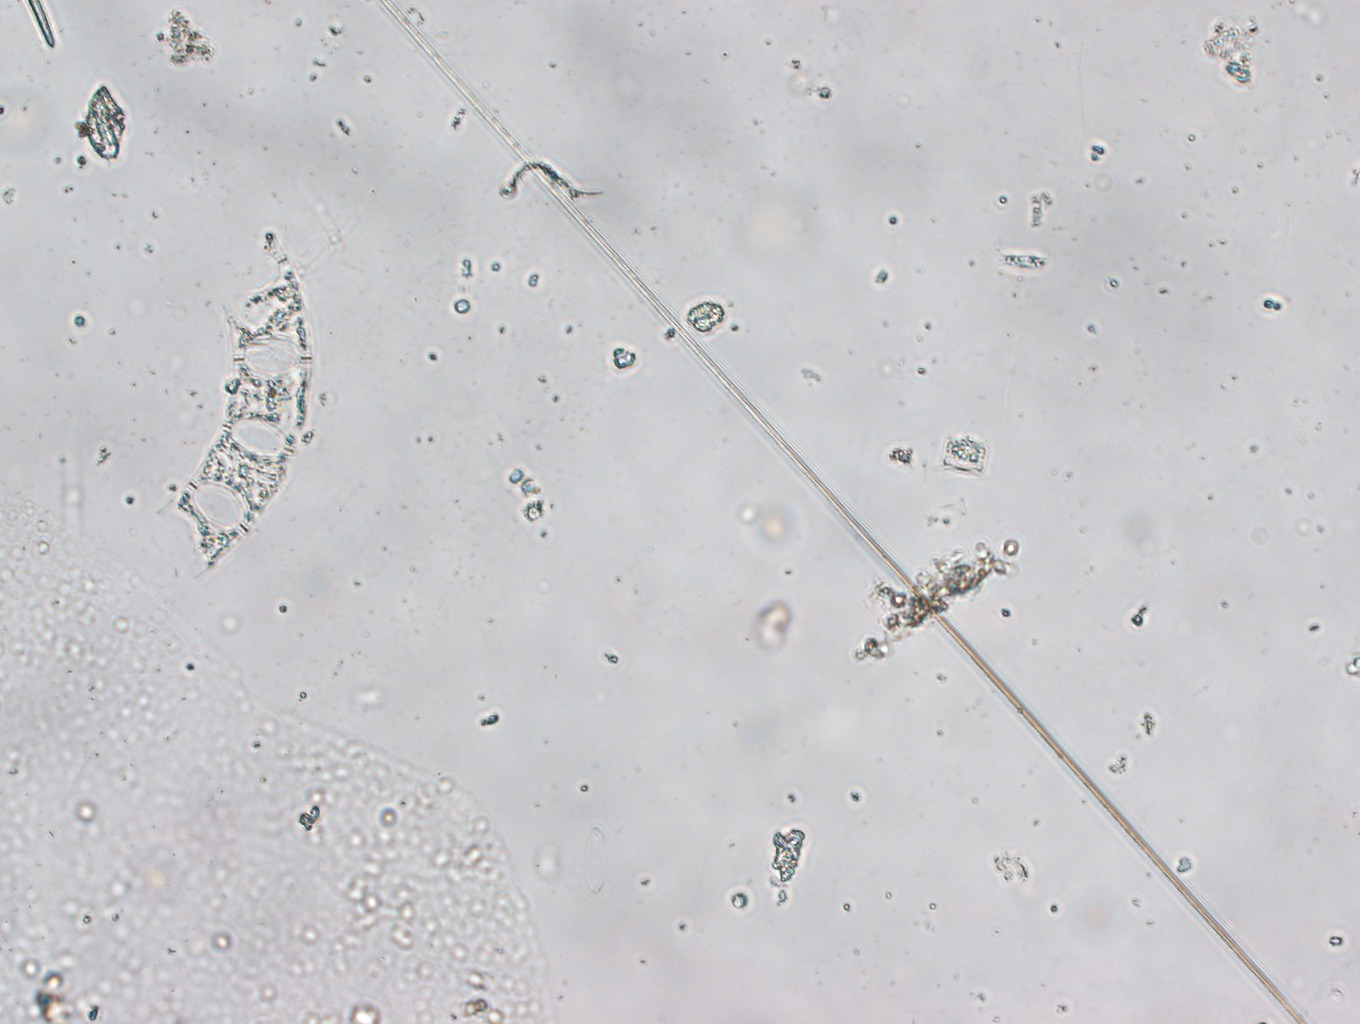eucampia: (155, 215, 319, 577)
